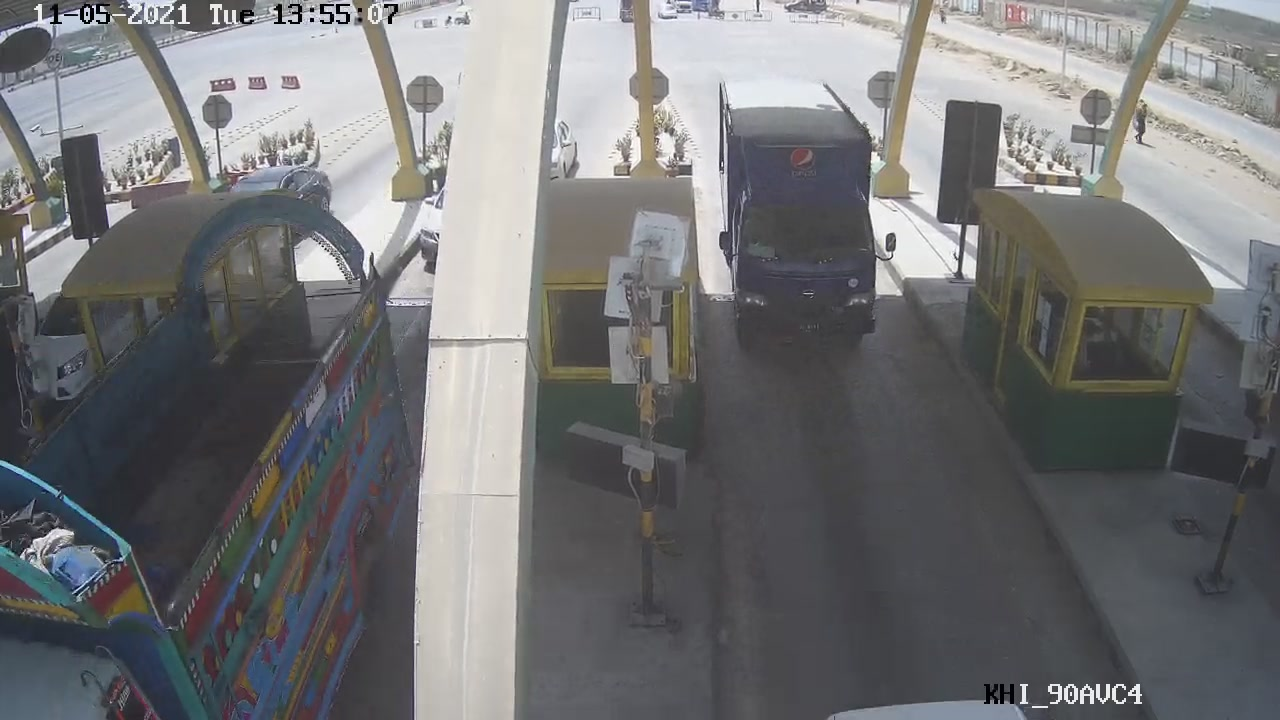F5: (706, 71, 899, 349)
